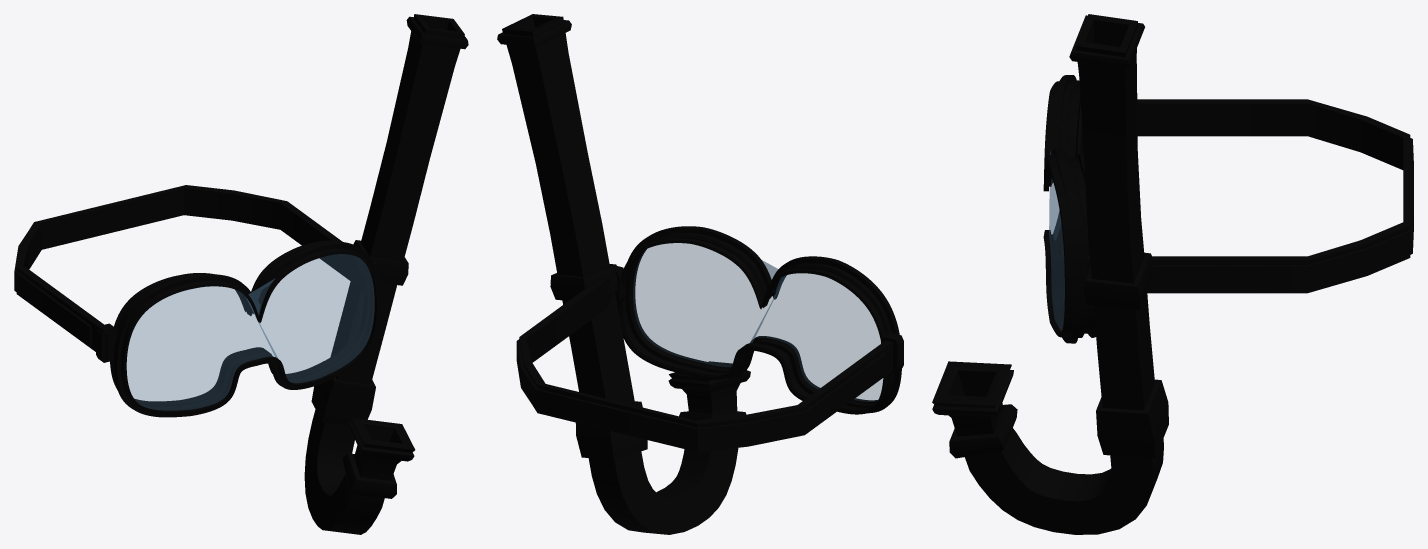
The model's file is FbxGlasses.fbx.
3 views of the same model, side by side, from view 1: azimuth 30°, elevation 25°; view 2: azimuth 150°, elevation 25°; view 3: azimuth 270°, elevation 25° (orthographic). The views are drawn at different scales.
Parts seen in each view (by area): view 1: bevelPolygon1, pCube1, polySurface1; view 2: pCube1, bevelPolygon1, polySurface1; view 3: pCube1, polySurface1, bevelPolygon1.
Part boxes in pixels (x1,y1,x2,y2): bevelPolygon1: [110, 240, 379, 417]; pCube1: [304, 14, 468, 534]; polySurface1: [14, 185, 381, 362]; pCube1: [497, 14, 750, 534]; bevelPolygon1: [617, 226, 901, 414]; polySurface1: [516, 266, 903, 452]; pCube1: [932, 14, 1168, 534]; polySurface1: [1087, 99, 1413, 293]; bevelPolygon1: [1043, 75, 1096, 343].
Size of the model in its own units: 114 by 138 by 106.
